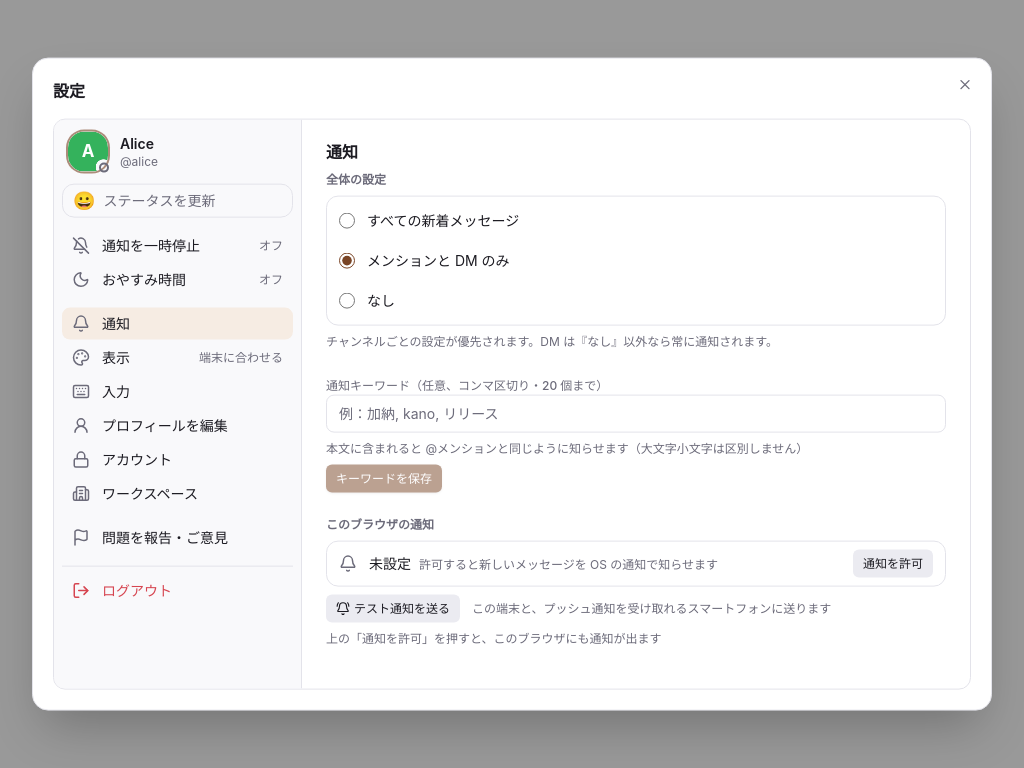
Test: browser notifications (M28b: the permission is asked for from the settings, never from an event) › offers 「通知を許可」 in the settings while unset and shows the state afterwards
The width and height of the screenshot is (1024, 768).
Expected: the text "未設定" is shown, [369,555,411,572]
Click the button "通知を許可". click: {"x": 893, "y": 564}
box: [853,550,933,578]
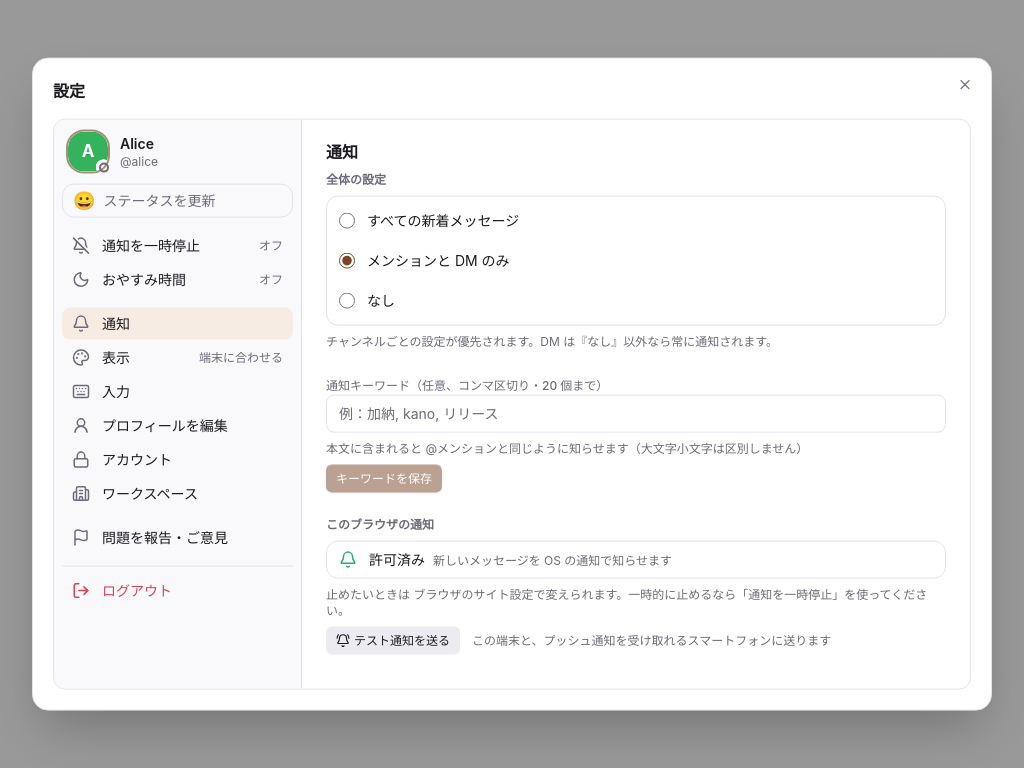
Now the text "許可済み" is shown, box [369,551,425,568]
Now the button "通知を許可" is gone
